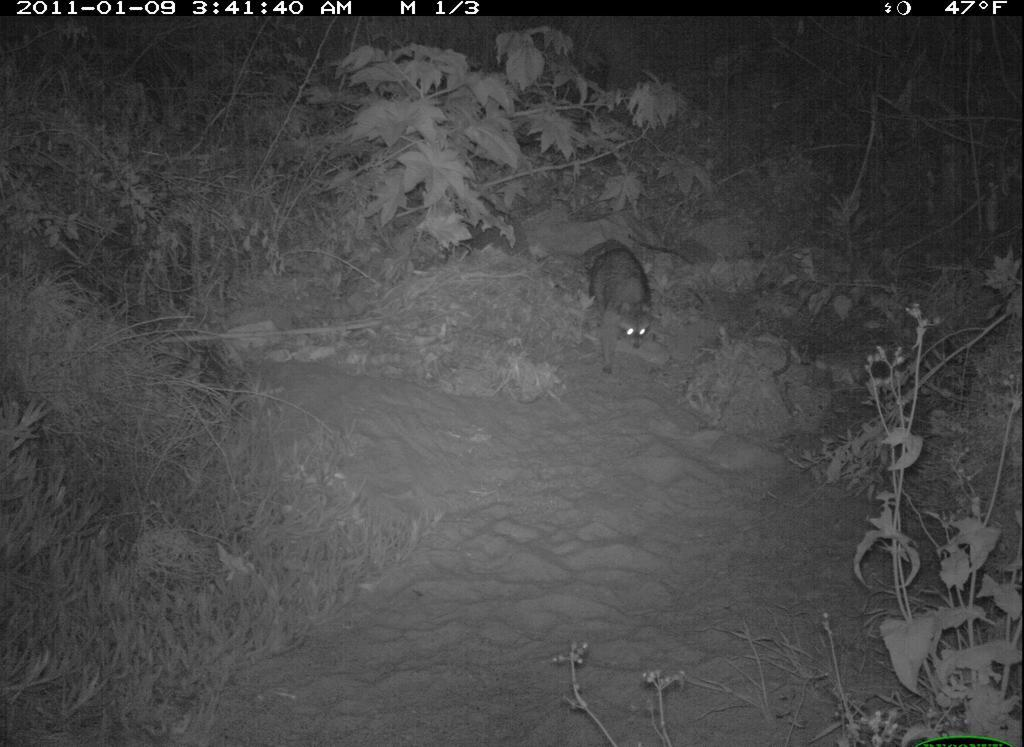raccoon: (574, 232, 665, 378)
